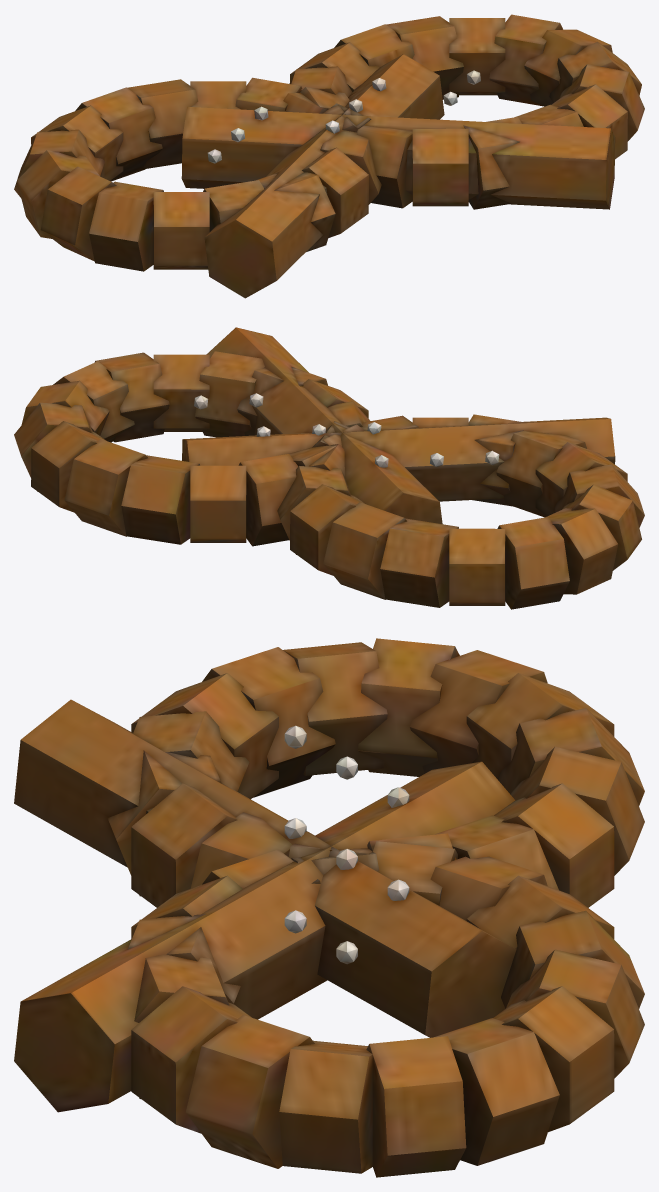
Rendered from pretzel_gigante.glb.
3 views of the same model, one above another, from view 1: azimuth 30°, elevation 25°; view 2: azimuth 150°, elevation 25°; view 3: azimuth 270°, elevation 25° (orthographic). The views are drawn at different scales.
Parts seen in each view (by area): view 1: pretzel_gigante; view 2: pretzel_gigante; view 3: pretzel_gigante.
Part boxes in pixels (x1=…): pretzel_gigante: x1=14, y1=14, x2=644, y2=298; pretzel_gigante: x1=14, y1=327, x2=644, y2=609; pretzel_gigante: x1=14, y1=638, x2=644, y2=1177.
Bounding box in the file's own units: 2.54 × 0.35 × 1.47.
1 material, 1 textured.
